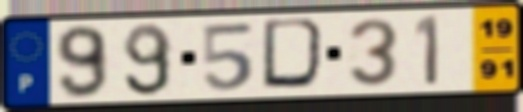1: (412, 13, 442, 88)
3: (345, 16, 401, 89)
5: (200, 20, 257, 93)
9: (52, 22, 111, 101), (121, 20, 175, 99)
D: (259, 16, 333, 93)
